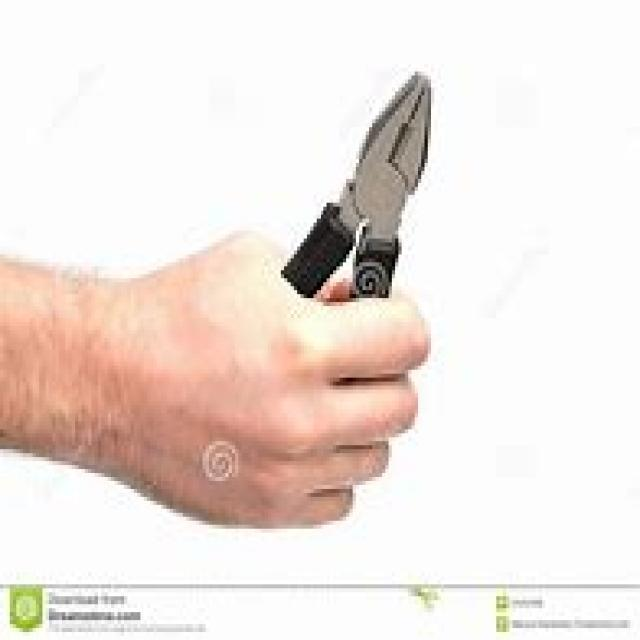pliers: (280, 70, 438, 308)
